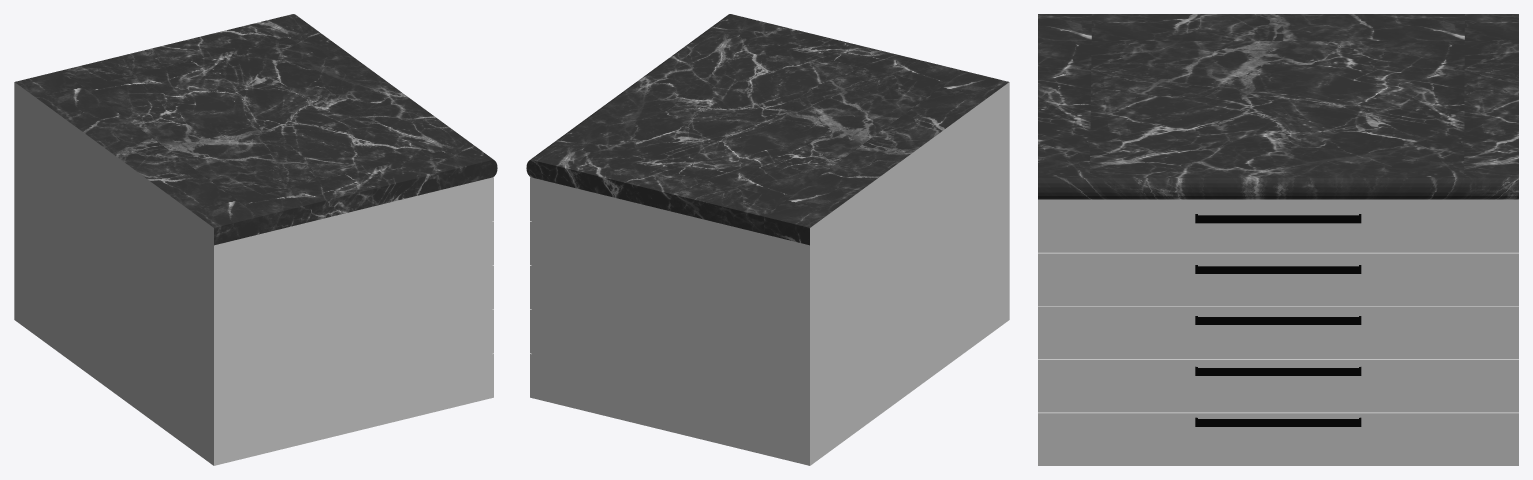
Rendered from marble table.fbx.
The picture shows the model from 3 angles, left to right: view 1: azimuth 30°, elevation 25°; view 2: azimuth 150°, elevation 25°; view 3: azimuth 270°, elevation 25°; orthographic projection. The views are drawn at different scales.
Visible parts, largest first — view 1: Cube, Cube.001; view 2: Cube, Cube.001; view 3: Cube, Cube.001, Plane.
Part boxes in pixels (<box>): Cube: <box>14,82,493,465</box>; Cube.001: <box>15,14,497,245</box>; Cube: <box>530,82,1009,465</box>; Cube.001: <box>526,14,1008,245</box>; Cube: <box>1038,199,1518,465</box>; Cube.001: <box>1038,14,1518,199</box>; Plane: <box>1195,214,1361,426</box>.
Size of the model in its own units: 476 by 382 by 580.
